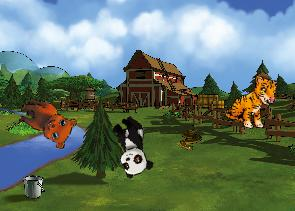bear: (12, 95, 79, 151)
panda: (107, 113, 155, 179)
tiger: (223, 70, 280, 133)
